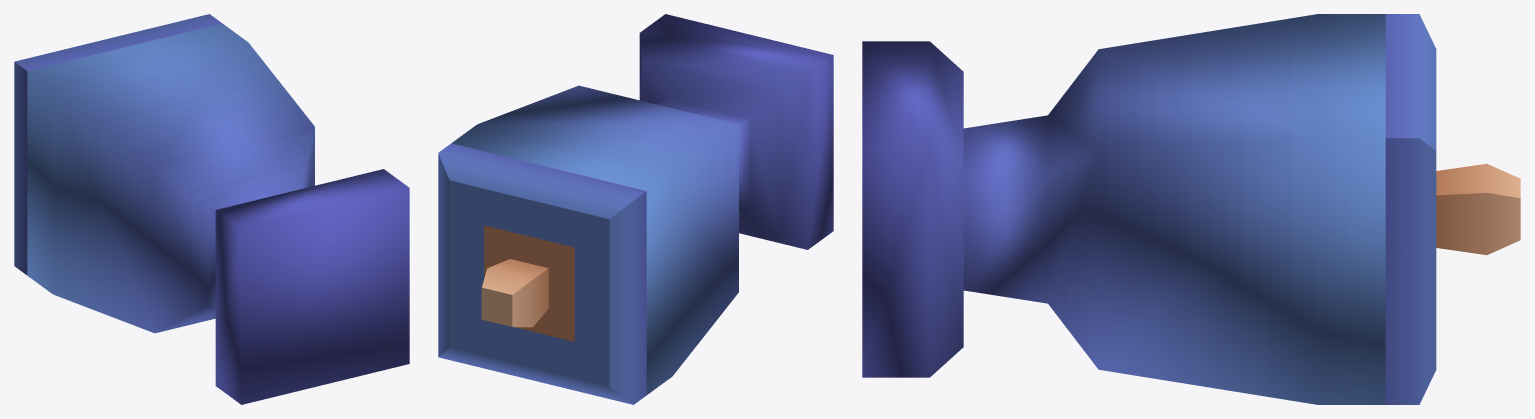
Rendered from urn.obj.
The picture shows the model from 3 angles, left to right: view 1: azimuth 30°, elevation 25°; view 2: azimuth 150°, elevation 25°; view 3: azimuth 270°, elevation 25°; orthographic projection. The views are drawn at different scales.
Visible parts, largest first — view 1: urn.003; view 2: urn.003; view 3: urn.003.
Part boxes in pixels (<box>): urn.003: <box>14,14,409,404</box>; urn.003: <box>438,14,833,404</box>; urn.003: <box>862,14,1520,404</box>.
Bounding box in the file's own units: 0.1742 × 0.1742 × 0.39.
